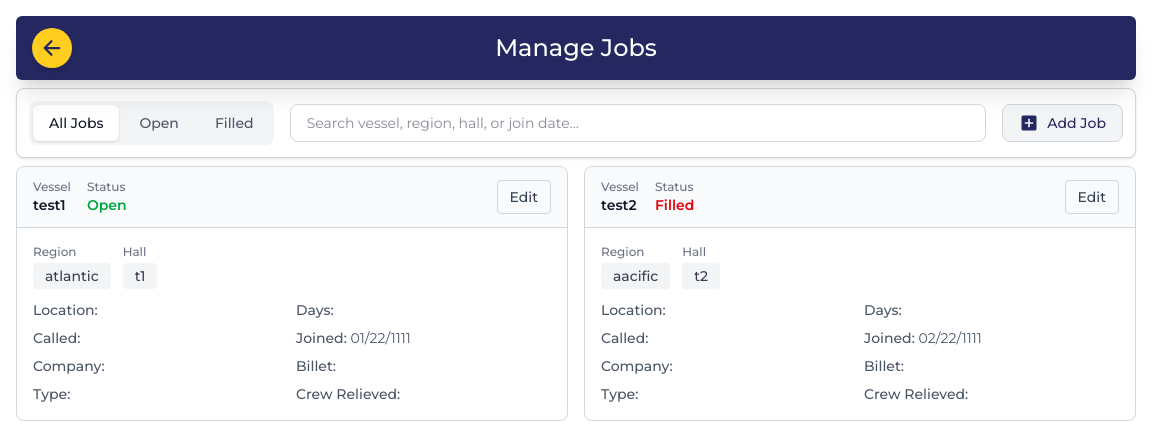
it: ManageJobs › test search bar function
Expected: the heading "test1" is shown, [33, 195, 71, 215]
Expected: the heading "test2" is shown, [601, 195, 639, 215]
Step 1. Type "test1" into the field with placeholder "Search vessel, region, hall, or join date…" → (638, 123), box [290, 104, 986, 142]
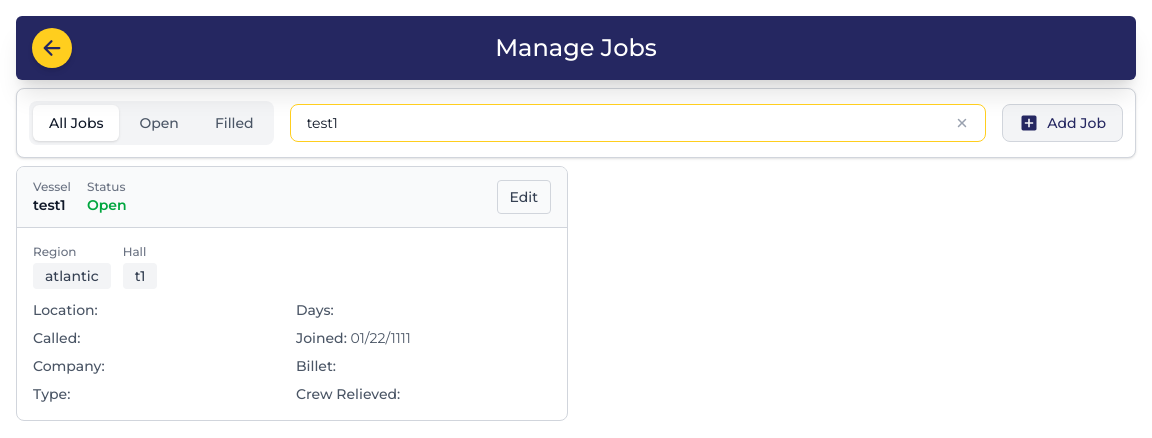
Expected: the heading "test1" is shown, [33, 195, 71, 215]
Expected: the heading "test2" is gone
